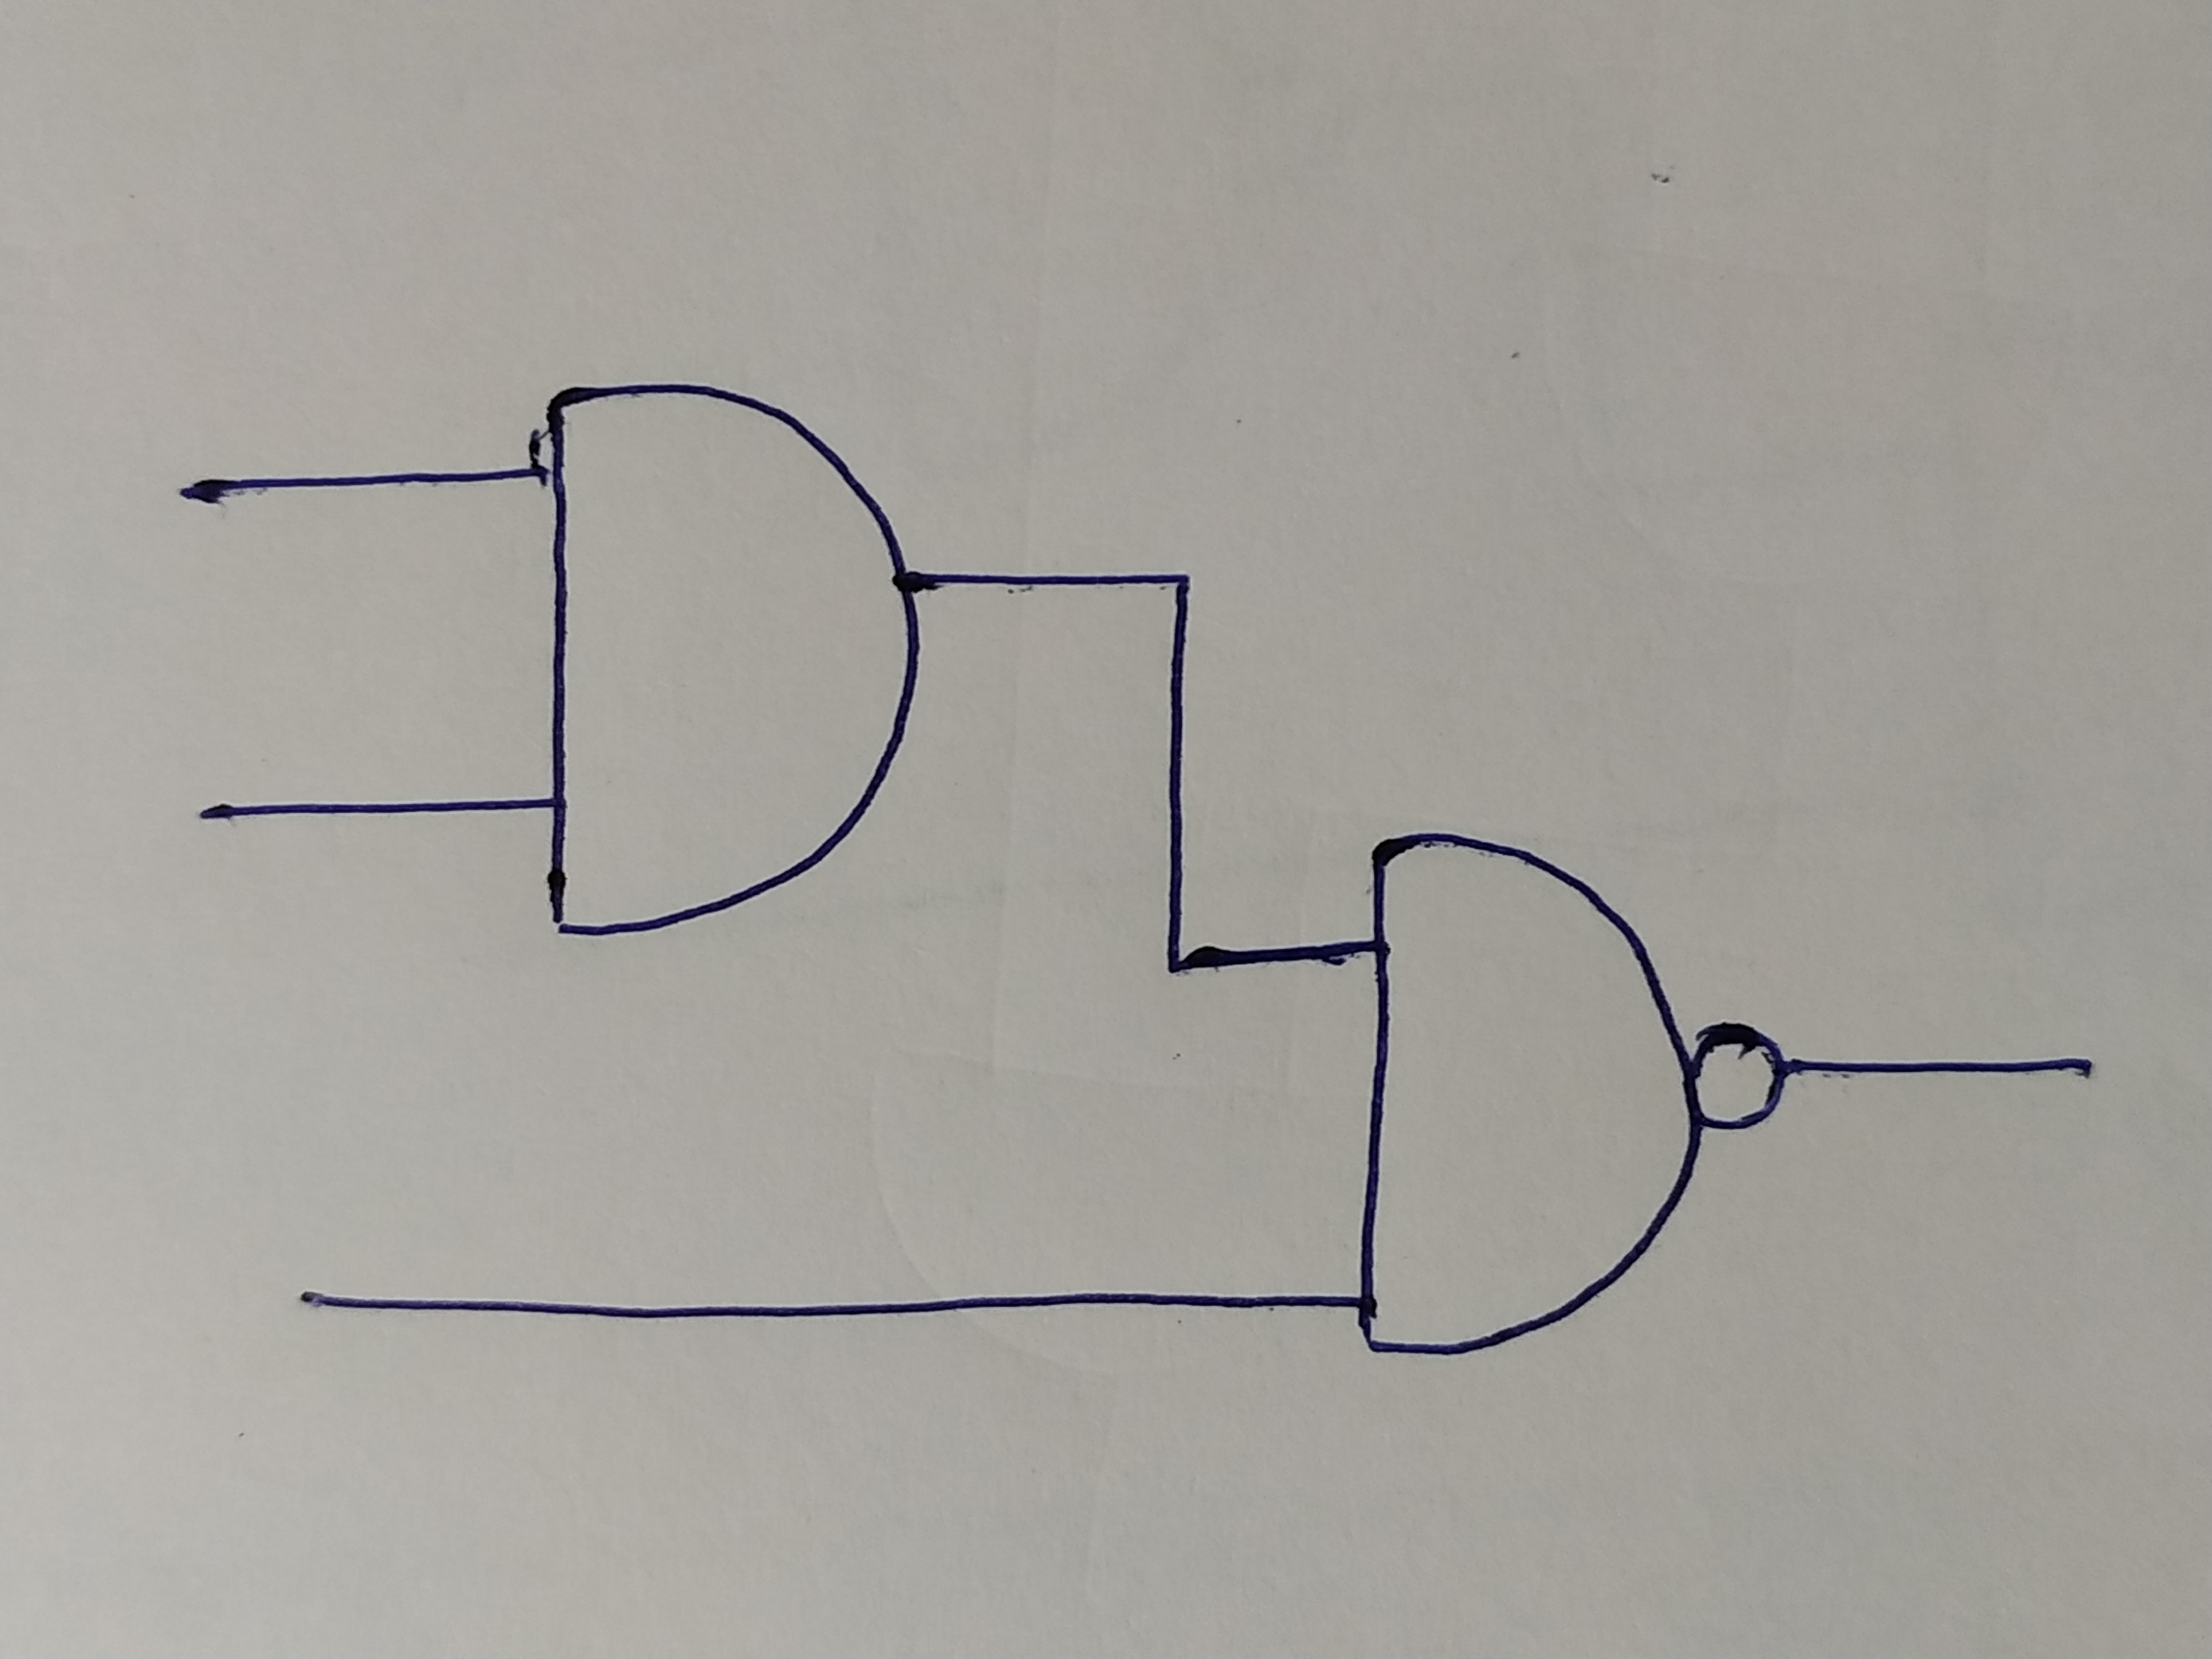and: (531, 380, 911, 939), (1362, 828, 1688, 1364)
not: (1693, 1025, 1785, 1133)
